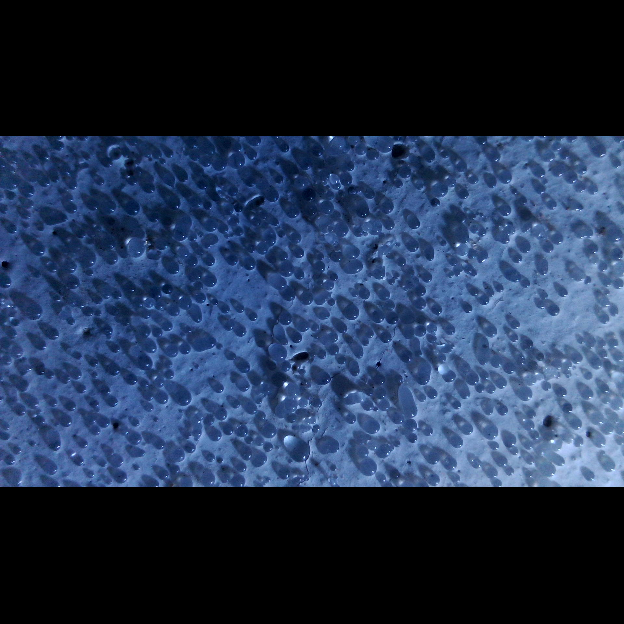GrassBeadSeg: (125, 239, 147, 258), (269, 344, 288, 361), (359, 459, 377, 476), (292, 444, 310, 461), (195, 337, 216, 351), (344, 260, 364, 274), (319, 332, 340, 345), (342, 306, 360, 320), (363, 420, 381, 434), (228, 154, 246, 168), (173, 392, 192, 405), (317, 219, 333, 234), (26, 306, 43, 320), (136, 356, 153, 369), (294, 320, 311, 333), (279, 263, 296, 276), (271, 277, 288, 290), (177, 297, 195, 309), (125, 202, 140, 216), (102, 200, 117, 214), (81, 252, 96, 266), (62, 259, 77, 273), (332, 139, 346, 154), (368, 220, 382, 235), (369, 310, 385, 323), (483, 426, 499, 439), (517, 388, 533, 401), (277, 312, 293, 325), (261, 425, 277, 438), (316, 373, 332, 386), (324, 440, 340, 453), (432, 184, 449, 196), (175, 247, 192, 259), (541, 464, 556, 477), (285, 384, 300, 397), (502, 434, 517, 447), (281, 289, 297, 301), (203, 220, 219, 232), (532, 227, 548, 239), (380, 138, 393, 152), (399, 351, 414, 363), (405, 240, 420, 252), (31, 244, 46, 256), (164, 345, 179, 357), (203, 275, 218, 287), (415, 374, 430, 386), (592, 146, 607, 158), (143, 341, 158, 353), (334, 224, 349, 236), (173, 229, 188, 241), (319, 202, 334, 214), (8, 474, 23, 486), (607, 229, 622, 241), (165, 263, 181, 274), (264, 191, 280, 202), (105, 365, 121, 376), (284, 207, 300, 218), (294, 177, 311, 187), (128, 433, 142, 445), (44, 463, 58, 475), (466, 374, 480, 386), (105, 253, 119, 265), (412, 325, 426, 337), (422, 151, 436, 163), (167, 197, 181, 209), (460, 424, 475, 435), (277, 468, 292, 479), (443, 458, 458, 469), (403, 420, 418, 431), (372, 375, 387, 386), (155, 240, 170, 251), (315, 310, 331, 320), (169, 451, 185, 461), (550, 167, 566, 177), (179, 343, 192, 355), (381, 202, 394, 214), (6, 178, 19, 190), (450, 437, 464, 448), (46, 329, 60, 340), (377, 289, 391, 300), (167, 305, 181, 316), (237, 362, 251, 373), (427, 474, 441, 485), (499, 172, 513, 183), (498, 206, 512, 217), (502, 363, 516, 374), (114, 472, 128, 483), (155, 392, 169, 403), (237, 381, 251, 392), (299, 159, 313, 170), (189, 197, 203, 208), (490, 357, 504, 368), (302, 190, 316, 201), (403, 407, 417, 418), (214, 408, 228, 419), (208, 429, 222, 440), (201, 474, 215, 485), (232, 476, 246, 487), (23, 185, 35, 197), (456, 244, 468, 256), (408, 218, 421, 229), (379, 332, 392, 343), (551, 234, 564, 245), (485, 326, 498, 337), (233, 326, 246, 337), (244, 403, 257, 414), (111, 456, 124, 467), (603, 461, 616, 472), (487, 152, 500, 163), (391, 414, 404, 425), (486, 468, 499, 479), (311, 146, 324, 157), (143, 298, 156, 309), (378, 447, 391, 458), (572, 270, 585, 281), (520, 240, 531, 253), (225, 254, 238, 265), (346, 248, 359, 259), (611, 399, 624, 410), (426, 454, 440, 464), (288, 234, 302, 244), (66, 279, 80, 289), (137, 327, 151, 337), (235, 426, 249, 436), (11, 347, 25, 357), (366, 150, 380, 160), (592, 415, 606, 425), (523, 375, 537, 385), (564, 174, 579, 183), (496, 456, 508, 467), (594, 437, 606, 448), (486, 177, 498, 188), (17, 381, 29, 392), (509, 271, 521, 282), (355, 144, 367, 155), (373, 268, 385, 279), (422, 271, 433, 283), (547, 306, 560, 316), (234, 463, 247, 473), (569, 419, 582, 429), (106, 397, 119, 407), (327, 346, 340, 356), (386, 314, 399, 324), (413, 286, 426, 296), (477, 296, 490, 306), (292, 248, 305, 258), (495, 379, 508, 389), (362, 401, 375, 411), (222, 425, 235, 435), (357, 447, 370, 457), (313, 263, 326, 273), (69, 370, 82, 380), (383, 220, 396, 230), (190, 313, 203, 323), (455, 162, 468, 172), (458, 389, 471, 399), (185, 257, 198, 267), (323, 191, 336, 201), (18, 364, 31, 374), (61, 416, 74, 426), (243, 259, 256, 269), (263, 235, 276, 245), (313, 294, 326, 304), (161, 285, 175, 294), (581, 390, 595, 399), (241, 449, 252, 460), (400, 167, 411, 178), (358, 206, 369, 217), (306, 205, 317, 216), (359, 288, 370, 299), (415, 298, 426, 309), (431, 305, 443, 315), (497, 406, 509, 416), (462, 304, 474, 314), (291, 334, 303, 344), (426, 389, 438, 399), (336, 324, 348, 334), (278, 143, 290, 153), (591, 359, 603, 369), (576, 165, 588, 175), (378, 401, 390, 411), (101, 325, 113, 335), (98, 418, 110, 428), (476, 253, 488, 263), (221, 205, 233, 215), (610, 250, 622, 260), (203, 255, 215, 265), (257, 243, 269, 253), (300, 294, 312, 304), (161, 322, 174, 331), (457, 190, 470, 199), (443, 373, 456, 382), (153, 378, 166, 387), (330, 253, 343, 262), (124, 283, 137, 292), (14, 407, 27, 416), (278, 362, 291, 371), (107, 307, 120, 316), (143, 391, 154, 401), (555, 457, 566, 467), (524, 421, 535, 431), (390, 469, 401, 479), (126, 375, 137, 385), (257, 454, 267, 465), (342, 175, 353, 185), (110, 344, 122, 353), (213, 384, 225, 393), (444, 326, 456, 335), (154, 440, 166, 449), (345, 415, 357, 424), (545, 201, 557, 210), (223, 322, 235, 331), (555, 388, 567, 397), (599, 385, 611, 394), (20, 211, 32, 220), (228, 217, 240, 226), (587, 245, 599, 254), (244, 178, 256, 187), (140, 310, 152, 319), (119, 317, 131, 326), (476, 136, 488, 145), (250, 137, 262, 146), (148, 214, 161, 222), (542, 153, 555, 161), (40, 177, 50, 187), (54, 141, 64, 151), (24, 199, 34, 209), (64, 193, 74, 203), (129, 136, 139, 146), (128, 176, 138, 186), (77, 228, 87, 238), (37, 340, 47, 350), (2, 355, 12, 365), (35, 365, 45, 375), (45, 369, 55, 379), (60, 374, 70, 384), (0, 431, 10, 441), (218, 224, 228, 234), (76, 385, 87, 394), (600, 315, 611, 324), (512, 255, 523, 264), (562, 404, 573, 413), (451, 401, 462, 410), (510, 321, 521, 330), (316, 350, 327, 359), (543, 244, 554, 253), (536, 301, 547, 310), (312, 399, 323, 408), (294, 271, 305, 280), (5, 456, 16, 465), (525, 456, 536, 465), (286, 414, 297, 423), (99, 386, 110, 395), (246, 151, 257, 160), (608, 340, 619, 349), (204, 416, 215, 425), (574, 184, 585, 193), (471, 459, 482, 468), (445, 179, 456, 188), (325, 280, 334, 291), (407, 435, 419, 443), (163, 371, 175, 379), (232, 228, 244, 236), (523, 442, 535, 450), (403, 269, 415, 277), (183, 326, 195, 334), (535, 186, 545, 195), (585, 472, 595, 481), (263, 443, 273, 452), (521, 279, 531, 288), (609, 307, 619, 316), (573, 438, 583, 447), (588, 186, 598, 195), (530, 432, 540, 441), (614, 353, 624, 362), (62, 166, 72, 175), (67, 205, 77, 214), (95, 177, 105, 186), (89, 200, 98, 210), (103, 158, 113, 167), (165, 148, 174, 158), (187, 139, 197, 148), (190, 152, 200, 161), (201, 158, 211, 167), (206, 145, 215, 155), (216, 161, 226, 170), (178, 173, 188, 182), (145, 184, 155, 193), (72, 242, 82, 251), (105, 239, 115, 248), (49, 263, 58, 273), (1, 278, 11, 287), (84, 307, 94, 316), (67, 400, 76, 410), (51, 440, 60, 450), (28, 398, 38, 407), (74, 456, 84, 465), (159, 470, 169, 479), (130, 418, 140, 427), (298, 398, 308, 407), (611, 159, 621, 168), (535, 168, 545, 177), (246, 210, 255, 220), (253, 217, 262, 227), (354, 227, 363, 237), (428, 323, 437, 333), (423, 428, 434, 436), (152, 329, 163, 337), (90, 427, 101, 435), (489, 442, 500, 450), (353, 351, 364, 359), (396, 258, 407, 266), (7, 330, 18, 338), (526, 410, 537, 418), (336, 358, 347, 366), (450, 475, 461, 483), (603, 426, 614, 434), (204, 453, 215, 461), (608, 415, 619, 423), (253, 378, 264, 386), (385, 302, 396, 310), (566, 136, 578, 143), (147, 480, 159, 487), (9, 156, 18, 165), (41, 152, 50, 161), (30, 159, 39, 168), (8, 224, 17, 233), (198, 180, 207, 189), (195, 167, 204, 176), (113, 291, 122, 300), (87, 415, 96, 424), (79, 439, 88, 448), (171, 465, 180, 474), (186, 443, 195, 452), (288, 402, 297, 411), (377, 389, 386, 398), (394, 375, 403, 384), (614, 280, 623, 289), (561, 150, 570, 159), (518, 196, 527, 205), (559, 289, 568, 298), (469, 175, 478, 184), (441, 150, 450, 159), (249, 312, 258, 321), (196, 294, 205, 303), (279, 250, 288, 259), (430, 199, 440, 207), (227, 353, 237, 361), (475, 385, 485, 393), (234, 204, 244, 212), (360, 339, 370, 347), (203, 202, 213, 210), (484, 288, 494, 296), (470, 289, 481, 296), (509, 448, 520, 455), (505, 468, 514, 476), (394, 180, 403, 188), (486, 385, 495, 393), (599, 263, 608, 271), (449, 258, 458, 266), (467, 251, 476, 259), (478, 229, 487, 237), (460, 235, 469, 243), (539, 267, 548, 275), (275, 176, 284, 184), (233, 144, 242, 152), (229, 188, 238, 196), (236, 305, 245, 313), (525, 339, 534, 347), (600, 300, 610, 307), (495, 285, 505, 292), (144, 404, 154, 411), (93, 297, 103, 304), (603, 279, 613, 286), (493, 480, 503, 487), (350, 369, 360, 376), (480, 372, 490, 379), (77, 136, 88, 142), (245, 437, 253, 445), (598, 340, 606, 348), (312, 324, 320, 332), (600, 351, 608, 359), (471, 226, 479, 234), (458, 215, 466, 223), (501, 236, 509, 244), (576, 231, 584, 239), (585, 230, 593, 238), (222, 305, 230, 313), (511, 334, 519, 342), (536, 353, 544, 361), (602, 396, 610, 404), (182, 432, 191, 439), (67, 318, 76, 325), (86, 471, 95, 478), (164, 361, 173, 368), (246, 245, 255, 252), (485, 409, 494, 416), (193, 429, 202, 436), (221, 474, 230, 481), (232, 401, 241, 408), (366, 191, 375, 198), (426, 253, 435, 260), (468, 213, 476, 220), (1, 206, 9, 213), (94, 224, 102, 231), (91, 359, 99, 366), (256, 438, 264, 445), (258, 413, 266, 420), (419, 395, 427, 402), (536, 448, 544, 455), (553, 444, 561, 451), (616, 437, 624, 444), (573, 357, 581, 364), (540, 292, 548, 299), (196, 282, 204, 289), (194, 272, 202, 279), (328, 298, 335, 306), (331, 273, 338, 281), (317, 253, 325, 260), (367, 330, 374, 338), (415, 349, 422, 357), (440, 355, 447, 363), (346, 335, 353, 343), (543, 383, 551, 390), (585, 373, 593, 380), (85, 270, 94, 276), (525, 472, 534, 478), (565, 371, 572, 378), (30, 411, 37, 418), (38, 418, 45, 425), (14, 447, 21, 454), (121, 428, 128, 435), (347, 164, 354, 171), (480, 358, 487, 365), (330, 465, 338, 471), (584, 278, 592, 284), (440, 241, 448, 247), (215, 457, 223, 463), (216, 344, 224, 350), (52, 176, 60, 182), (9, 168, 17, 174), (89, 231, 97, 237), (369, 444, 377, 450), (519, 416, 527, 422), (416, 184, 424, 190), (70, 183, 77, 189), (76, 353, 83, 359), (91, 372, 98, 378), (50, 400, 57, 406), (29, 441, 36, 447), (92, 400, 99, 406), (142, 381, 149, 387), (334, 183, 341, 189), (350, 189, 357, 195), (430, 336, 436, 343), (89, 239, 95, 245), (104, 293, 110, 299), (4, 424, 10, 430), (107, 479, 113, 485), (100, 461, 106, 467), (139, 450, 145, 456), (194, 436, 200, 442), (306, 413, 312, 419), (300, 414, 306, 420), (300, 369, 306, 375), (294, 365, 300, 371), (385, 441, 391, 447), (579, 339, 585, 345), (604, 289, 610, 295), (241, 197, 247, 203), (191, 235, 197, 241), (197, 249, 203, 255), (352, 291, 358, 297), (317, 280, 323, 286), (394, 273, 400, 279), (24, 223, 30, 228), (39, 225, 44, 231), (62, 216, 67, 222), (135, 161, 141, 166), (137, 169, 143, 174), (36, 272, 41, 278), (79, 302, 84, 308), (70, 300, 75, 306), (96, 311, 101, 317), (44, 259, 49, 265), (56, 296, 61, 302), (54, 421, 59, 427), (109, 450, 114, 456), (194, 419, 199, 425), (198, 414, 203, 420), (257, 397, 262, 403), (307, 393, 312, 399), (311, 418, 316, 424), (314, 425, 319, 431), (381, 476, 386, 482), (367, 390, 372, 396), (519, 360, 524, 366), (588, 343, 594, 348), (578, 205, 584, 210), (542, 180, 548, 185), (617, 138, 623, 143), (558, 136, 564, 141), (503, 221, 508, 227), (510, 228, 516, 233), (495, 223, 501, 228), (262, 212, 267, 218), (279, 231, 284, 237), (273, 220, 278, 226), (326, 292, 331, 298), (389, 280, 395, 285), (213, 299, 218, 305), (145, 153, 150, 158), (161, 160, 166, 165), (156, 154, 161, 159), (14, 320, 19, 325), (135, 465, 140, 470), (154, 417, 159, 422), (305, 420, 310, 425), (395, 442, 400, 447), (519, 354, 524, 359), (567, 363, 572, 368), (555, 146, 560, 151), (513, 189, 518, 194), (505, 231, 510, 236), (448, 273, 453, 278), (472, 271, 477, 276), (467, 269, 472, 274), (380, 233, 385, 238), (447, 349, 452, 354), (85, 156, 91, 160), (307, 383, 311, 388), (304, 380, 308, 385), (593, 260, 598, 264), (455, 272, 459, 277), (457, 269, 462, 273), (364, 232, 368, 237), (38, 410, 42, 414), (308, 426, 312, 430), (358, 441, 362, 445), (572, 366, 576, 370), (314, 181, 318, 185), (328, 172, 332, 176), (200, 233, 204, 237), (601, 452, 605, 456), (263, 482, 267, 485), (297, 478, 301, 481), (552, 374, 556, 377), (557, 374, 560, 378), (557, 366, 560, 370), (539, 376, 542, 380), (341, 192, 344, 196), (320, 191, 323, 195), (321, 179, 324, 183), (325, 176, 328, 180), (206, 245, 210, 248), (484, 344, 488, 347), (354, 139, 357, 143), (97, 409, 100, 412), (181, 410, 184, 413), (289, 460, 292, 463), (267, 479, 270, 482), (305, 477, 308, 480), (391, 447, 394, 450), (476, 213, 479, 216), (523, 230, 526, 233), (540, 214, 543, 217), (397, 244, 400, 247), (337, 249, 340, 252), (369, 274, 372, 277), (402, 285, 405, 288), (410, 285, 413, 288), (379, 304, 382, 307), (452, 345, 455, 348), (405, 288, 408, 291), (267, 389, 270, 392), (481, 214, 483, 217), (526, 229, 528, 232), (528, 227, 530, 230), (382, 252, 384, 255), (368, 246, 371, 248), (422, 266, 424, 268), (418, 274, 420, 276), (524, 348, 526, 350), (535, 364, 537, 366), (504, 351, 505, 353), (360, 190, 361, 192), (499, 351, 500, 352), (504, 349, 505, 350), (101, 466, 101, 466)
